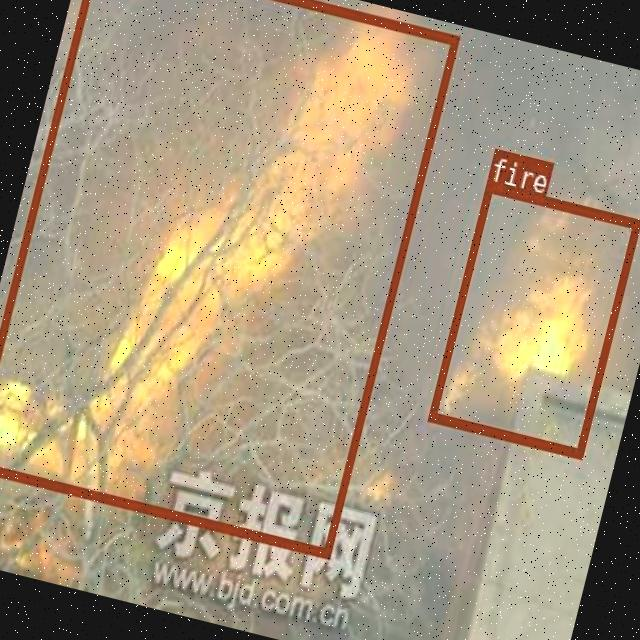fire: (0, 0, 457, 556), (425, 180, 640, 457)
